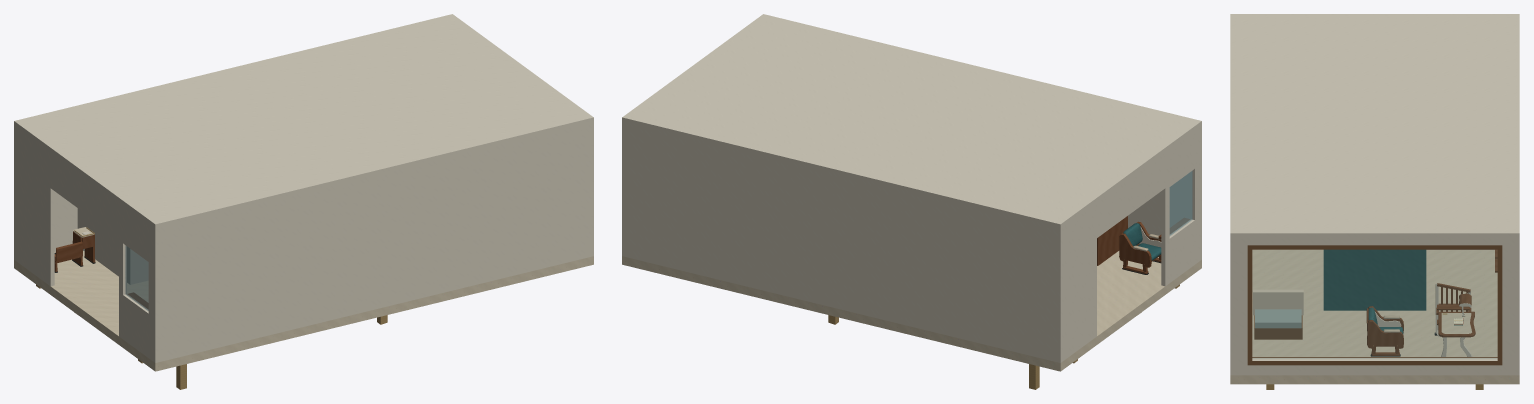
Rendered from NG506_PanoramicSuite_r001.glb.
3 views of the same model, side by side, from view 1: azimuth 30°, elevation 25°; view 2: azimuth 150°, elevation 25°; view 3: azimuth 270°, elevation 25° (orthographic). The views are drawn at different scales.
Parts seen in each view (by area): view 1: NG506_RuntimeBatch_001, NG506_RoomFloor, NG506_ScreenedStreetGlass, NG506_RuntimeBatch_013; view 2: NG506_RuntimeBatch_001, NG506_RoomFloor, NG506_ScreenedStreetGlass, NG506_RuntimeBatch_049, NG506_RuntimeBatch_002; view 3: NG506_RuntimeBatch_001, NGP_506_PrivateViewPane, NG506_RoomFloor, NG506_RuntimeBatch_006, NGP_506_Frame_Sill, NGP_506_Frame_Head, NGP_506_ViewSeat_Back, NG506_RuntimeBatch_028, NGP_506_ViewSeat_Cushion, NG506_RuntimeBatch_007, NGP_506_Frame_Left, NGP_506_Frame_Right (+3 smaller).
Part boxes in pixels (<box>): NG506_RuntimeBatch_001: <box>14,14,593,362</box>; NG506_RoomFloor: <box>14,250,593,371</box>; NG506_ScreenedStreetGlass: <box>125,245,148,310</box>; NG506_RuntimeBatch_013: <box>54,231,95,271</box>; NG506_RuntimeBatch_001: <box>622,14,1201,362</box>; NG506_RoomFloor: <box>622,251,1201,371</box>; NG506_ScreenedStreetGlass: <box>1169,171,1192,235</box>; NG506_RuntimeBatch_049: <box>1119,221,1161,274</box>; NG506_RuntimeBatch_002: <box>1097,216,1190,265</box>; NG506_RuntimeBatch_001: <box>1230,14,1519,375</box>; NGP_506_PrivateViewPane: <box>1252,250,1497,358</box>; NG506_RoomFloor: <box>1230,249,1519,384</box>; NG506_RuntimeBatch_006: <box>1323,249,1426,310</box>; NGP_506_Frame_Sill: <box>1247,357,1502,365</box>; NGP_506_Frame_Head: <box>1247,245,1502,249</box>; NGP_506_ViewSeat_Back: <box>1253,289,1303,315</box>; NG506_RuntimeBatch_028: <box>1366,306,1403,355</box>; NGP_506_ViewSeat_Cushion: <box>1255,309,1301,328</box>; NG506_RuntimeBatch_007: <box>1436,283,1475,337</box>; NGP_506_Frame_Left: <box>1497,249,1502,360</box>; NGP_506_Frame_Right: <box>1247,249,1252,360</box>.
Size of the model in its own units: 12.9 by 5.31 by 7.2.
68 materials, 49 textured.
